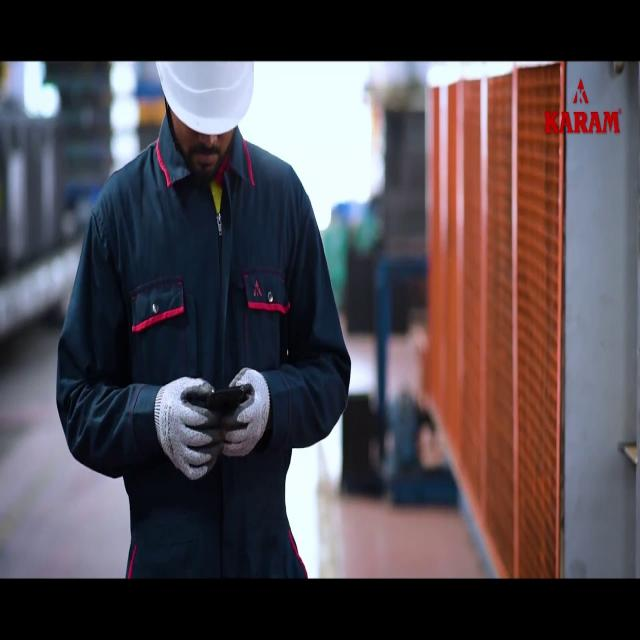Safety-Helmet: (151, 59, 259, 138)
